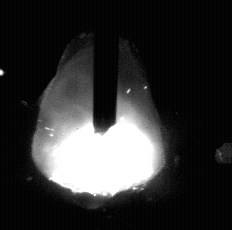arame: (94, 0, 118, 134)
poca: (31, 0, 164, 230)
